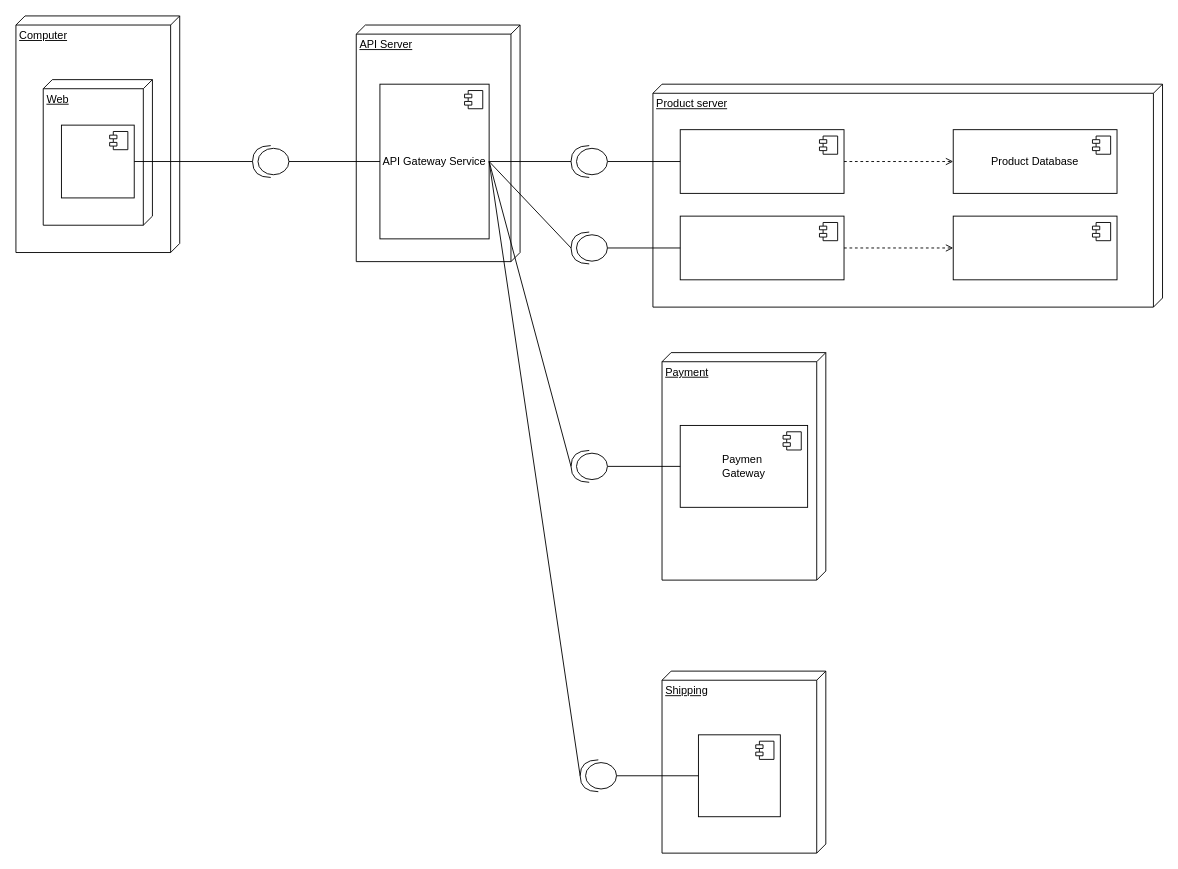
Some shapes in this 1178 by 869 pixel diagram are drawn without their labels. Here are the shapes that lost their labels. From the top down, the centre of each, then its label:
the point at 97,161: client
the point at 761,161: Product Catalog
the point at 761,247: Invoicing Service
the point at 1034,247: Invoice Database
the point at 739,775: Shipping Service
